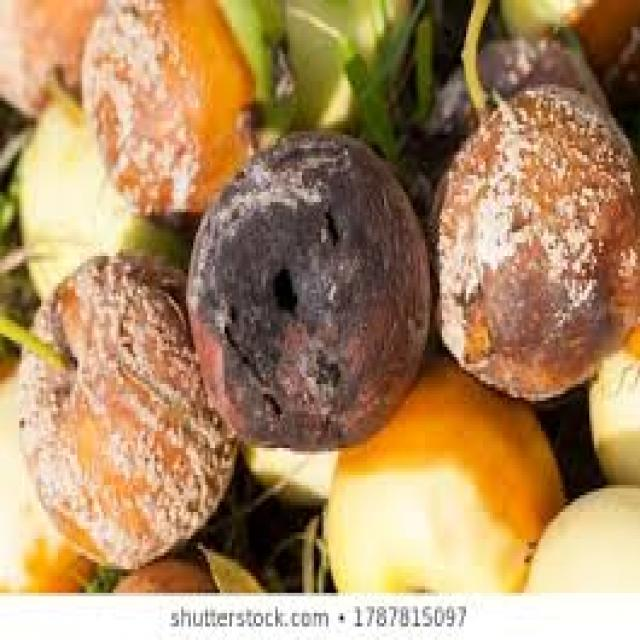organic waste: (184, 125, 432, 451), (0, 250, 232, 570), (428, 78, 638, 398), (322, 350, 560, 590), (77, 0, 254, 226), (14, 101, 191, 303), (422, 34, 608, 172), (0, 347, 92, 589), (280, 0, 406, 128), (490, 0, 638, 98), (519, 478, 638, 590), (215, 0, 292, 138), (0, 0, 97, 108), (584, 323, 638, 482), (102, 549, 268, 590), (232, 442, 338, 506), (343, 37, 394, 155), (459, 0, 497, 128), (408, 13, 435, 128), (391, 145, 430, 212)
